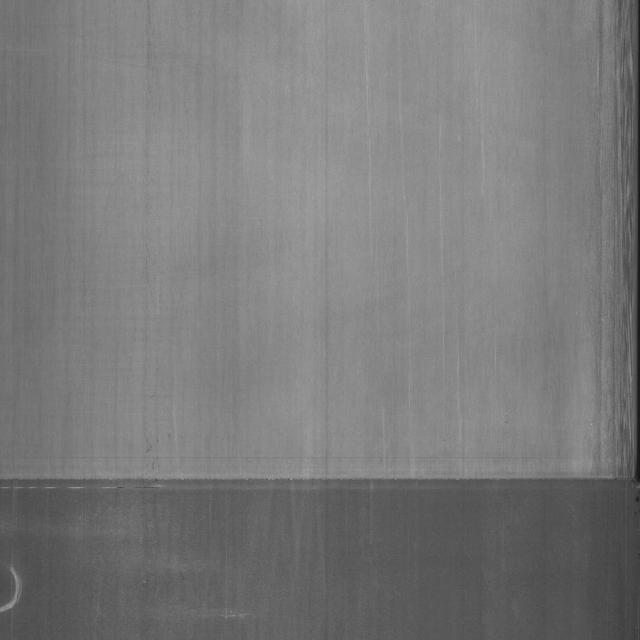crease: (2, 450, 640, 522)
